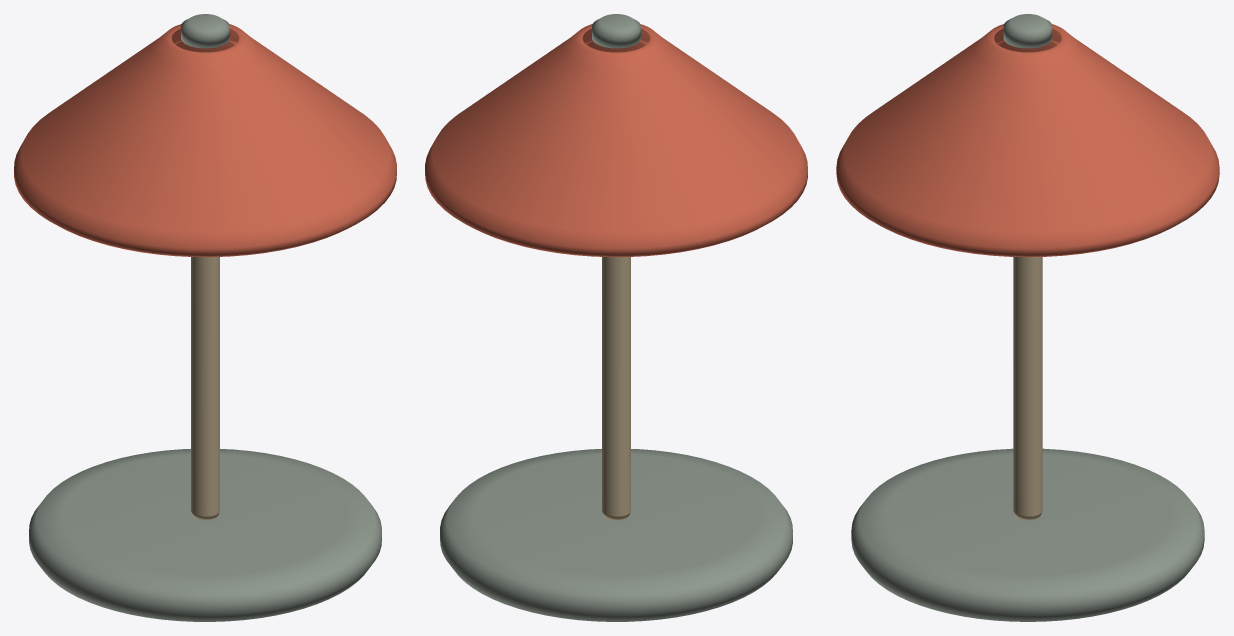
File: lumen.gltf
3 renders of one model, left to right at view 1: azimuth 30°, elevation 25°; view 2: azimuth 150°, elevation 25°; view 3: azimuth 270°, elevation 25°, orthographic.
Parts seen in each view (by area): view 1: shade, base, stem, cap; view 2: shade, base, stem, cap; view 3: shade, base, stem, cap.
Part boxes in pixels (bbox=[...]): shade: bbox=[14, 24, 396, 257]; base: bbox=[29, 449, 381, 621]; stem: bbox=[191, 257, 219, 520]; cap: bbox=[181, 14, 229, 48]; shade: bbox=[425, 24, 807, 257]; base: bbox=[440, 449, 792, 621]; stem: bbox=[602, 257, 630, 520]; cap: bbox=[592, 14, 640, 48]; shade: bbox=[836, 24, 1219, 257]; base: bbox=[851, 448, 1204, 621]; stem: bbox=[1013, 257, 1042, 520]; cap: bbox=[1003, 14, 1052, 48].
Size of the model in its own units: 1.02 by 1.57 by 1.02.
